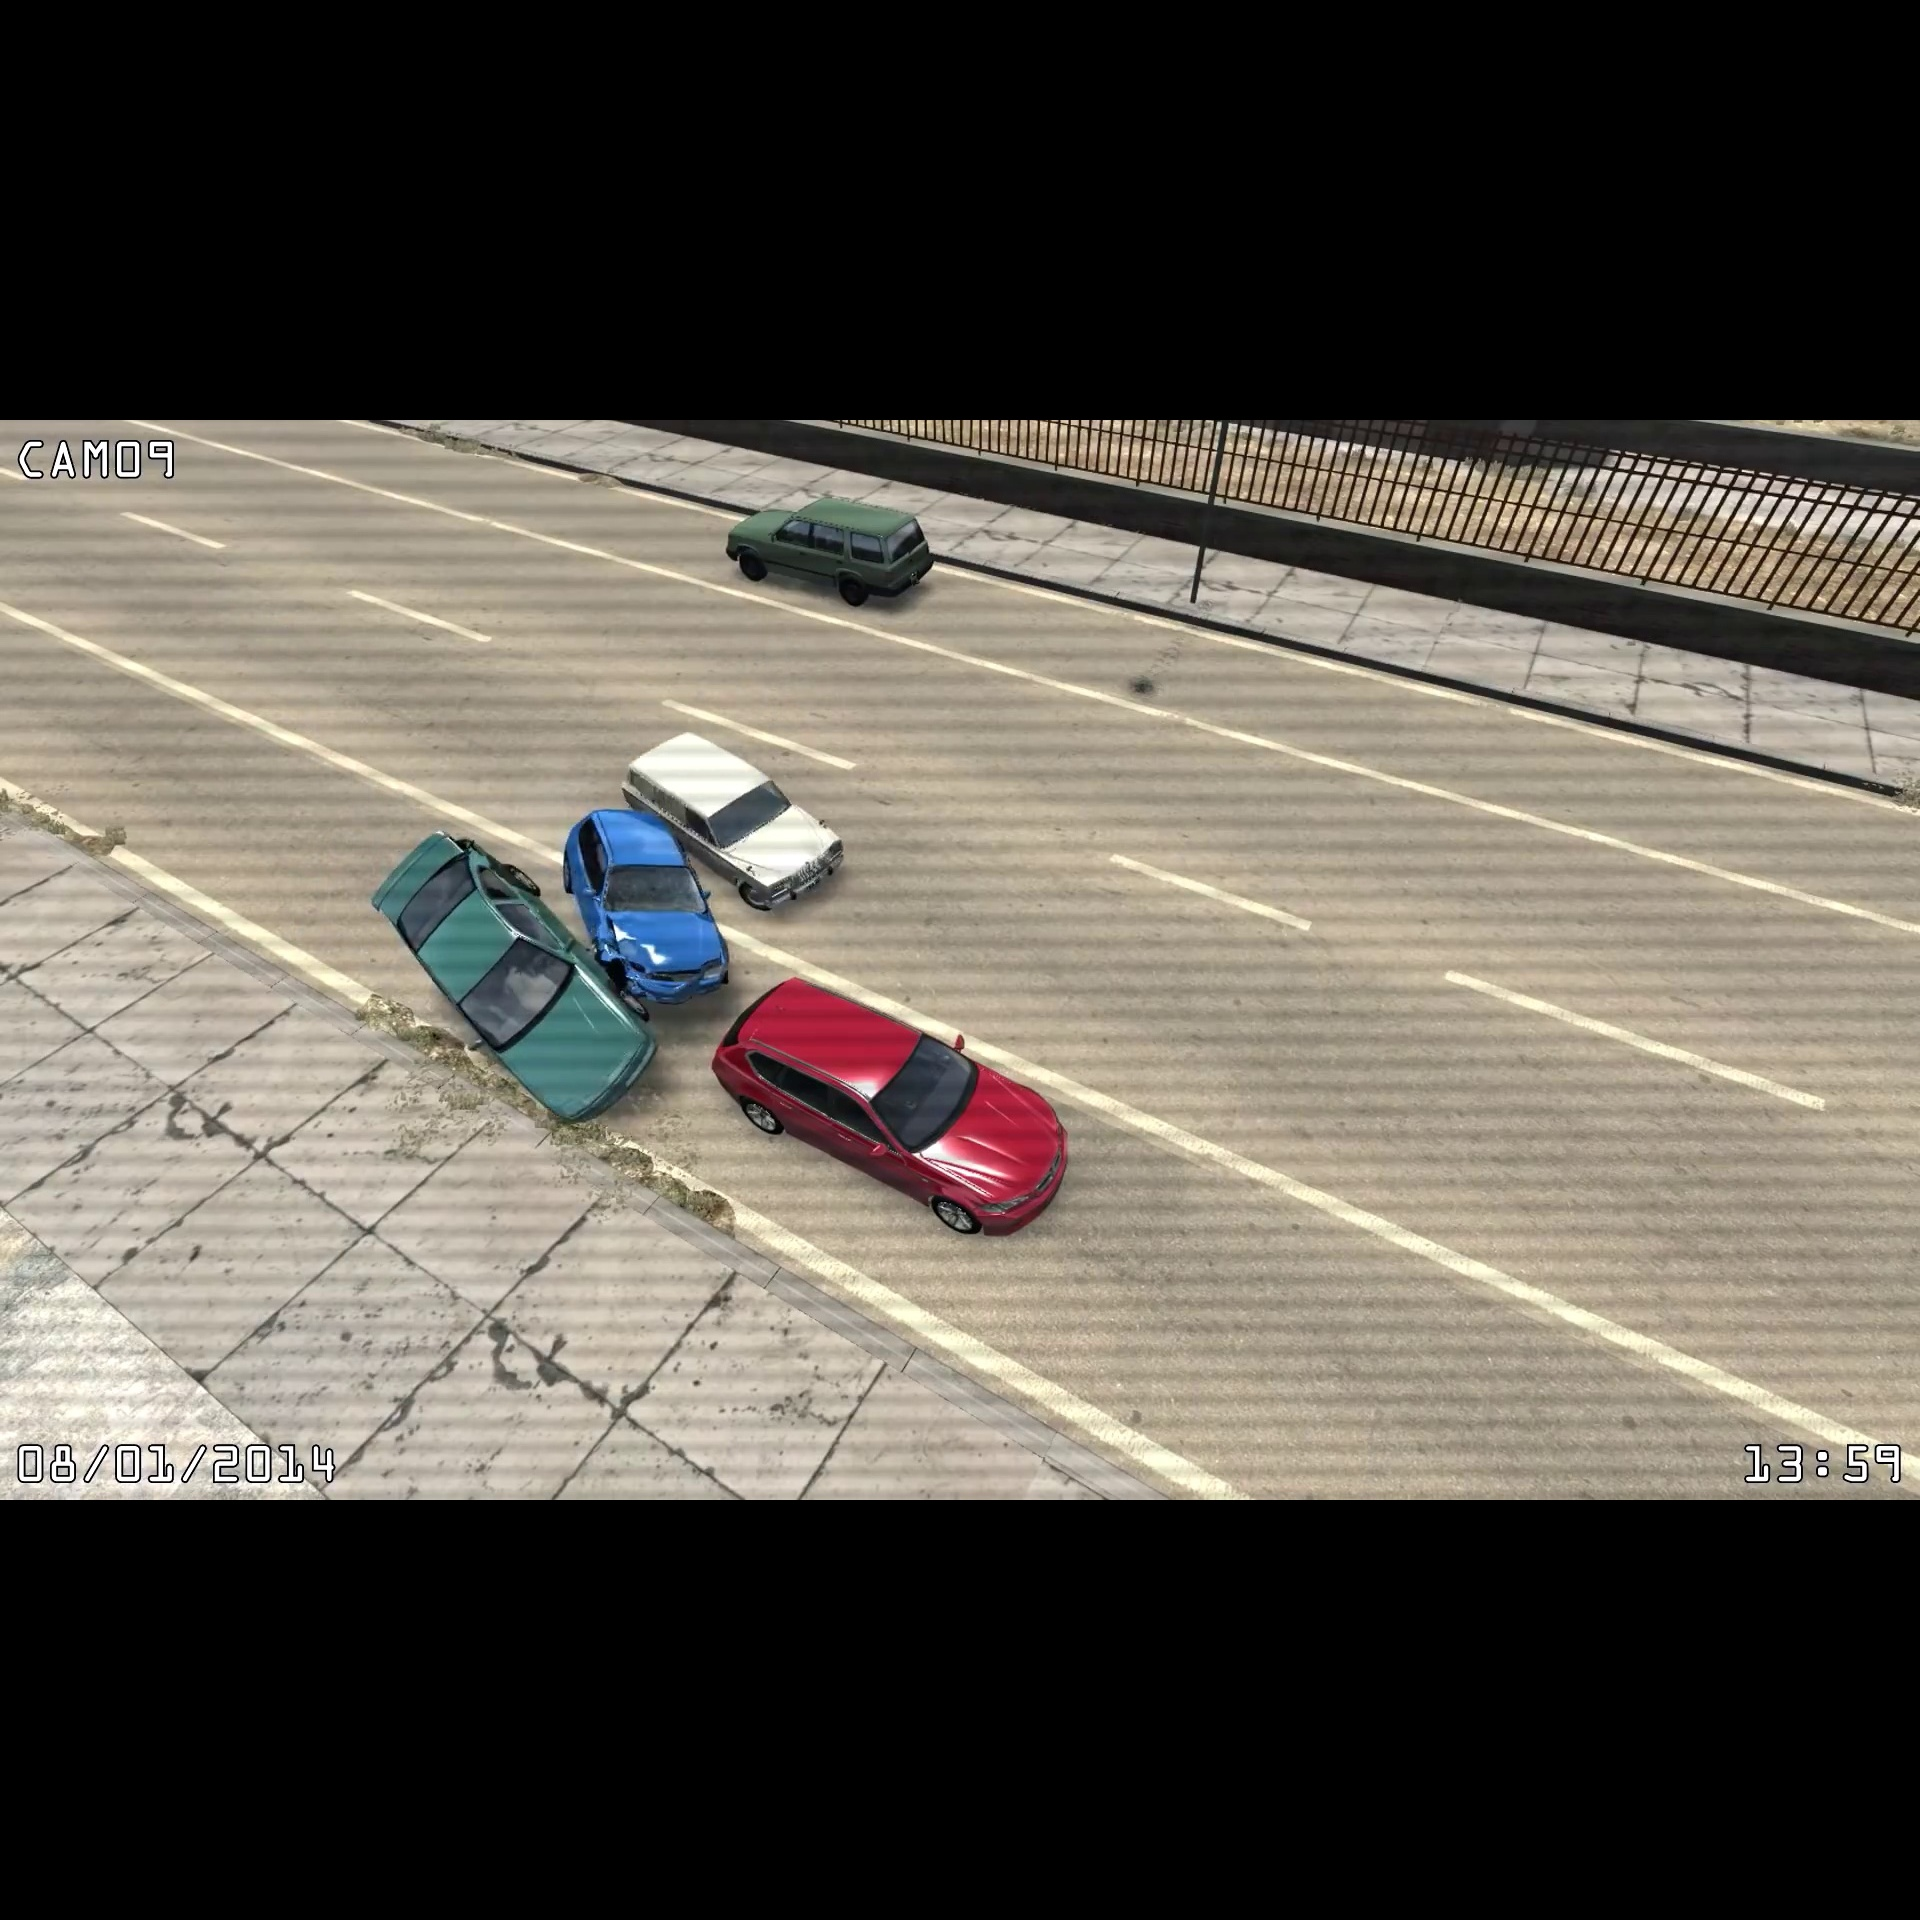vehicle: (707, 969, 1080, 1241), (366, 826, 635, 1131), (619, 726, 849, 918), (557, 802, 733, 1015), (721, 492, 942, 612)
